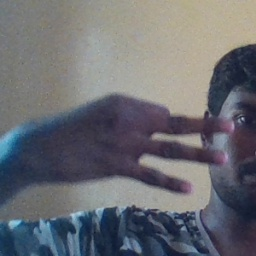K: (42, 89, 231, 195)
